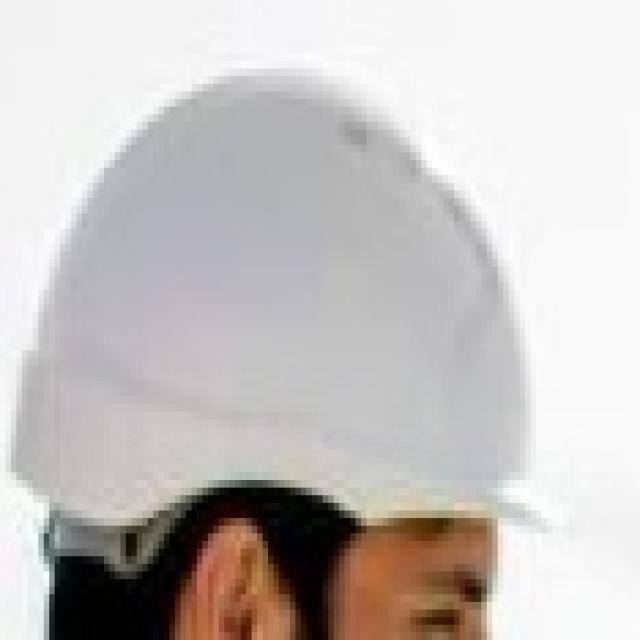helmet_white: (3, 4, 637, 636)
